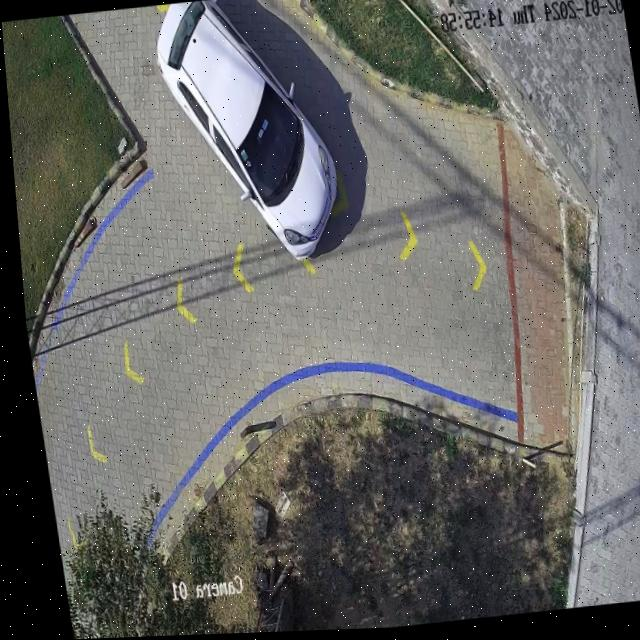car: (155, 1, 334, 261)
